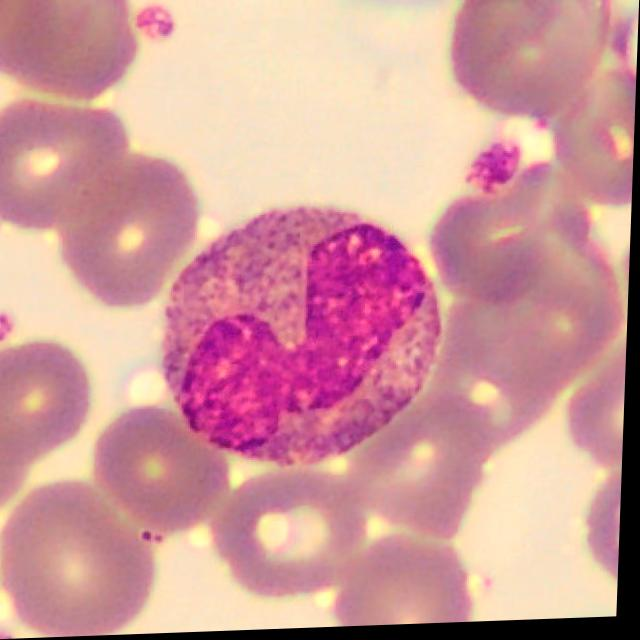Bastonete: (158, 208, 441, 471)
